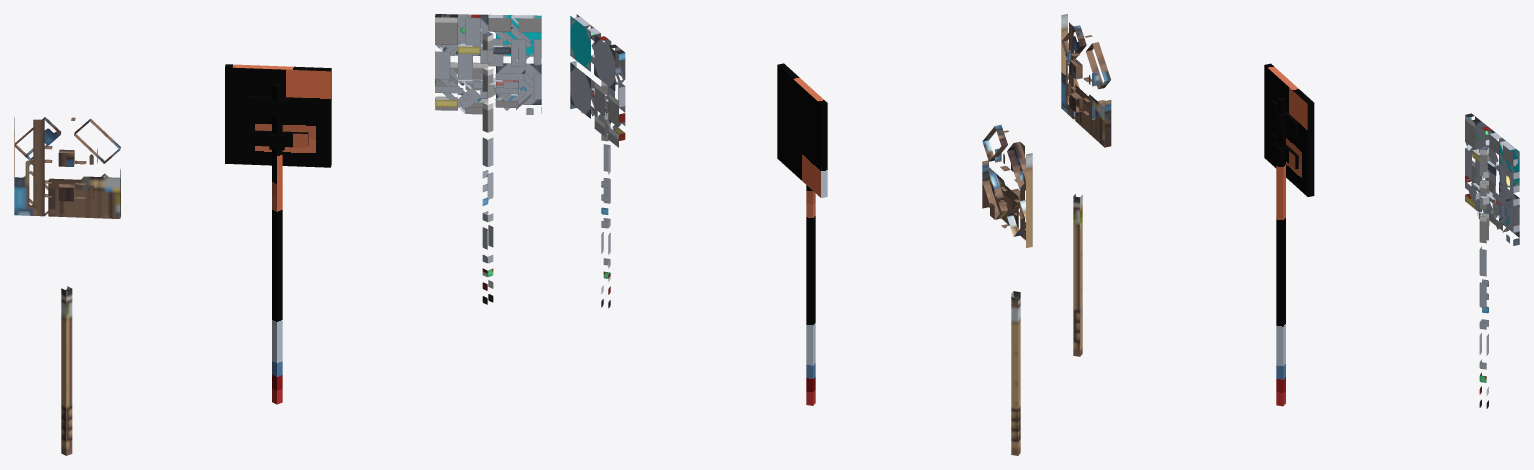
Rendered from znaki.fbx.
3 renders of one model, left to right at view 1: azimuth 30°, elevation 25°; view 2: azimuth 150°, elevation 25°; view 3: azimuth 330°, elevation 25°, orthographic. The views are drawn at different scales.
Visible parts, largest first — view 1: cube.020, cube.030, cube.010, cube.029, cube.039, cube.019, cube.024, cube.021, cube.038; view 2: cube.020, cube.030, cube.029, cube.010, cube.019, cube.039, cube.015, cube.017; view 3: cube.020, cube.030, cube.029, cube.010, cube.039, cube.019, cube.016.
Part boxes in pixels (x1,y1,x2,y2): cube.020: [225, 64, 331, 167]; cube.030: [435, 14, 541, 114]; cube.010: [14, 117, 120, 218]; cube.029: [272, 83, 282, 404]; cube.039: [482, 32, 493, 304]; cube.019: [61, 286, 72, 455]; cube.024: [247, 130, 308, 147]; cube.021: [247, 96, 308, 113]; cube.038: [435, 68, 481, 113]; cube.020: [777, 63, 827, 197]; cube.030: [570, 14, 625, 147]; cube.029: [806, 185, 815, 405]; cube.010: [982, 130, 1032, 247]; cube.019: [1011, 291, 1020, 455]; cube.039: [601, 80, 610, 308]; cube.015: [982, 172, 1007, 219]; cube.017: [1007, 142, 1025, 189]; cube.020: [1264, 63, 1314, 196]; cube.030: [1465, 113, 1519, 245]; cube.029: [1276, 97, 1285, 406]; cube.010: [1061, 14, 1111, 147]; cube.039: [1479, 146, 1488, 408]; cube.019: [1073, 194, 1082, 356]; cube.016: [1085, 42, 1110, 89].
Size of the model in its own units: 476 by 300 by 55.31.
